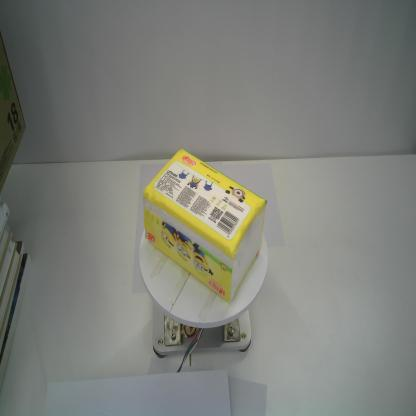Tissue: (141, 146, 269, 305)
